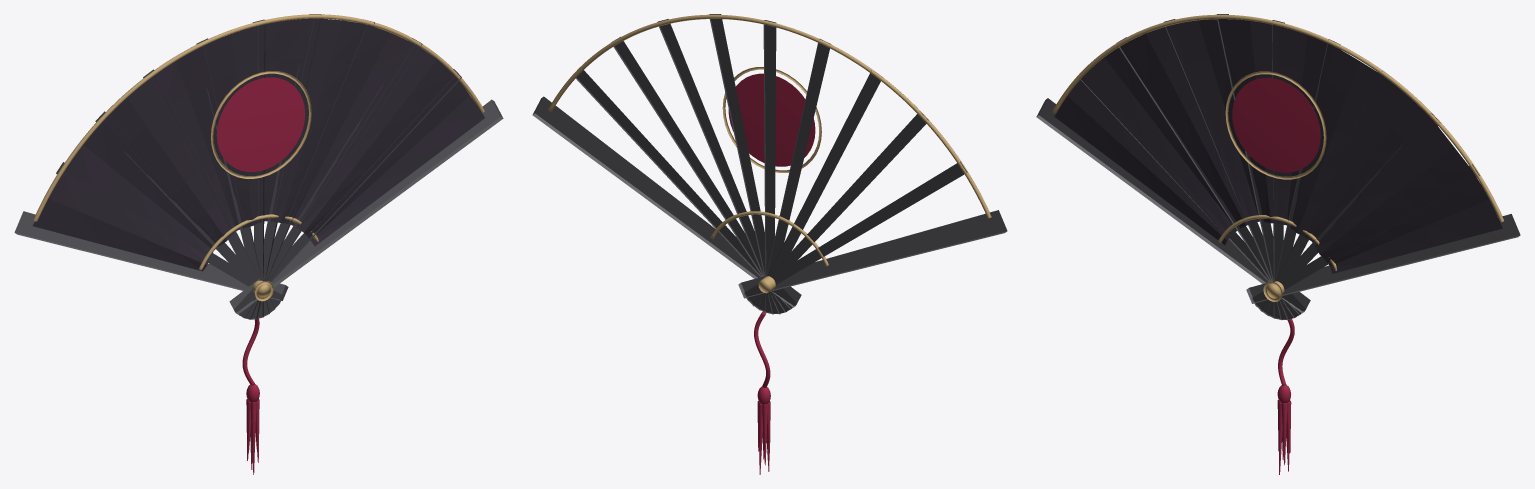
The model's file is tessen_yume.glb.
3 views of the same model, side by side, from view 1: azimuth 30°, elevation 25°; view 2: azimuth 150°, elevation 25°; view 3: azimuth 330°, elevation 25° (orthographic).
Parts seen in each view (by area): view 1: panel, ribs, guards, emblem, deco, cord, emblem_ring; view 2: ribs, guards, emblem, deco, cord, emblem_ring; view 3: panel, ribs, guards, emblem, deco, cord, emblem_ring.
Boxes of the visible parts, box(x1,y1,x2,y2) form: panel: box(32, 18, 484, 271); ribs: box(56, 14, 461, 319); guards: box(14, 99, 503, 314); emblem: box(216, 77, 305, 171); deco: box(33, 14, 484, 301); cord: box(242, 318, 259, 474); emblem_ring: box(211, 71, 311, 178); ribs: box(576, 14, 967, 314); guards: box(532, 96, 1007, 307); emblem: box(728, 73, 815, 166); deco: box(548, 14, 991, 293); cord: box(754, 311, 770, 474); emblem_ring: box(722, 67, 821, 172); panel: box(1054, 19, 1502, 273); ribs: box(1080, 14, 1479, 319); guards: box(1036, 98, 1520, 313); emblem: box(1232, 77, 1320, 172); deco: box(1052, 14, 1503, 301); cord: box(1277, 319, 1294, 474); emblem_ring: box(1225, 71, 1326, 179).
Size of the model in its own units: 0.5715 by 0.514 by 0.0331.
